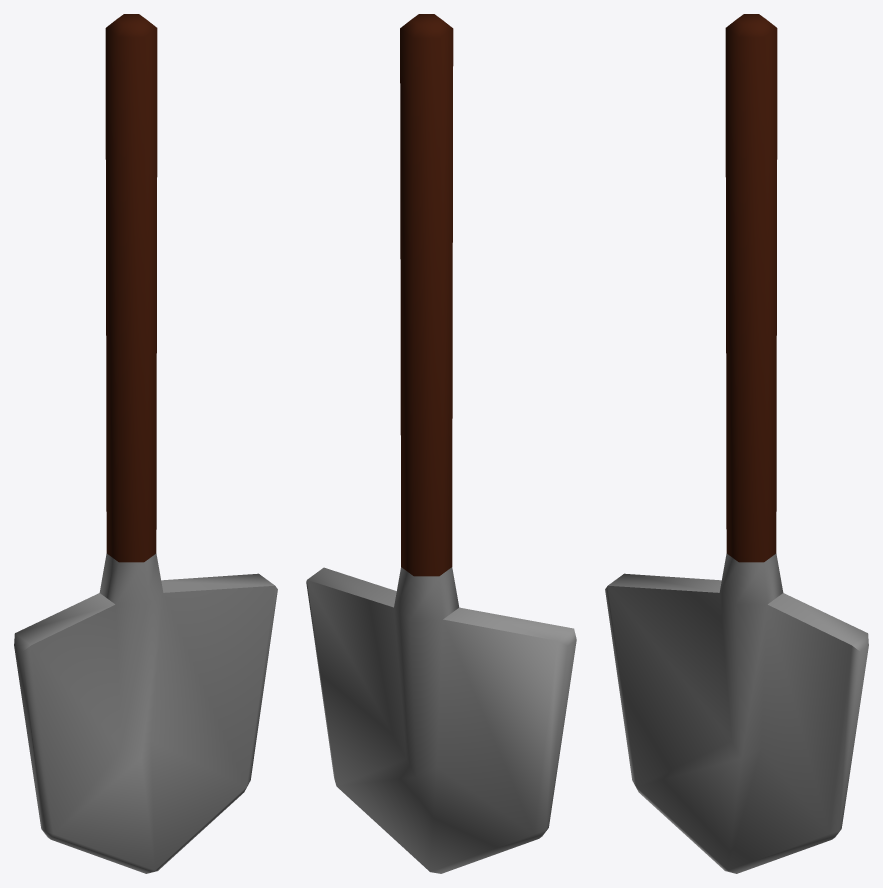
Rendered from shovel.fbx.
3 views of the same model, side by side, from view 1: azimuth 30°, elevation 25°; view 2: azimuth 150°, elevation 25°; view 3: azimuth 330°, elevation 25° (orthographic). The views are drawn at different scales.
Parts seen in each view (by area): view 1: shovel; view 2: shovel; view 3: shovel.
Boxes of the visible parts, box(x1,y1,x2,y2) form: shovel: box(14, 14, 277, 873); shovel: box(306, 14, 576, 873); shovel: box(605, 14, 868, 873).
Bounding box in the file's own units: 2.61 × 8.19 × 0.7.
